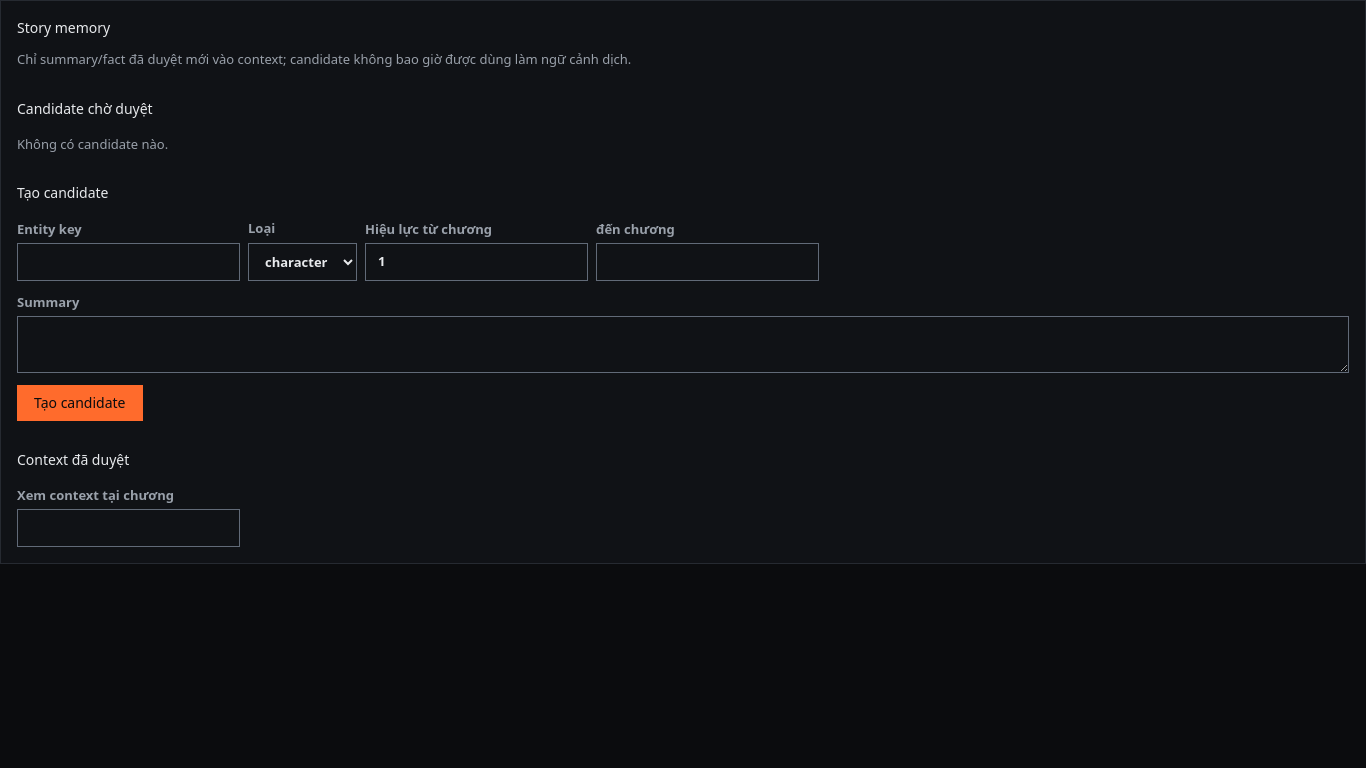
MemoryManager (U09 part 4) › shows only approved context for the requested chapter with its hash
Check: the text "Không có candidate nào." is shown, box [17,134,168,152]
In the field labelled "Xem context tại chương": (128, 528) [17,509,240,546], type "6"
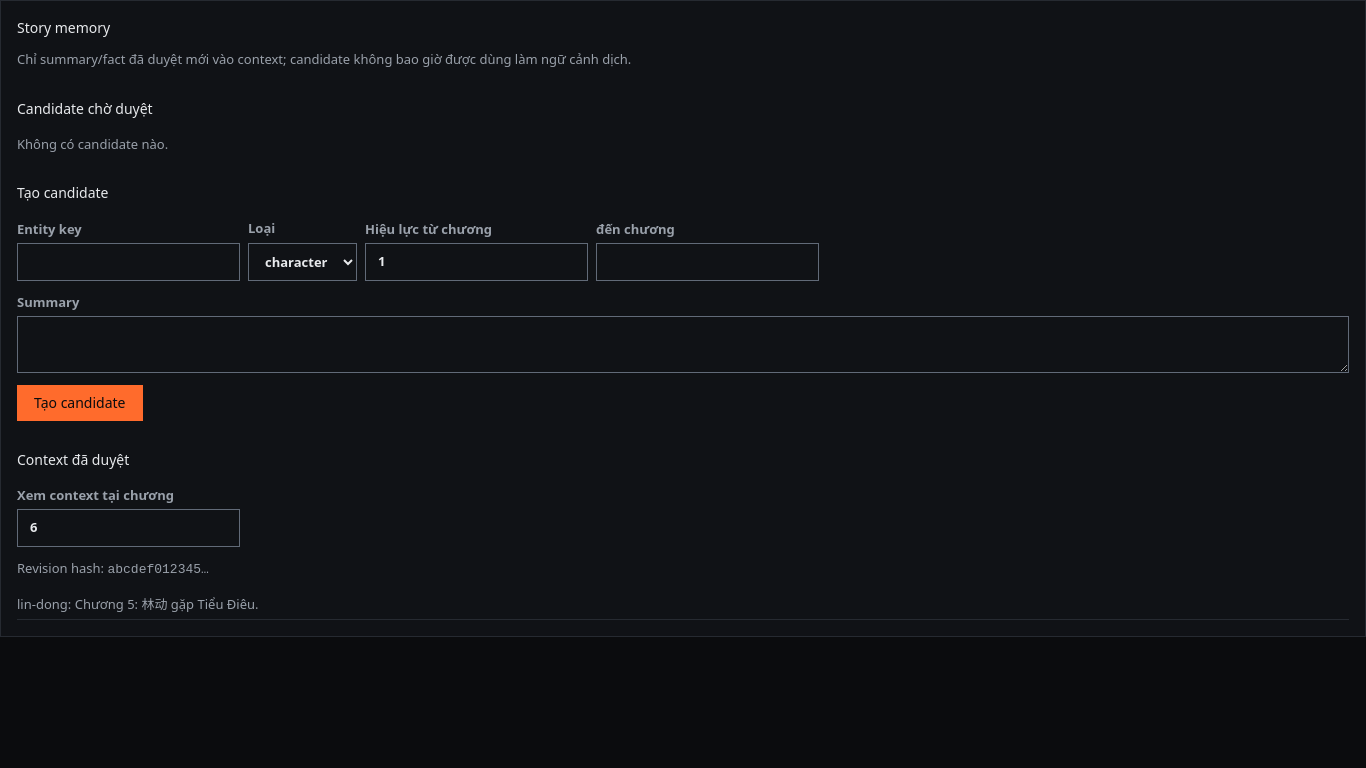
Check: the list named "Context đã duyệt" shows "Chương 5: 林动 gặp Tiểu Điêu.", box [75,595,258,613]
Check: the text "abcdef012345…" is shown, box [107,562,209,576]
